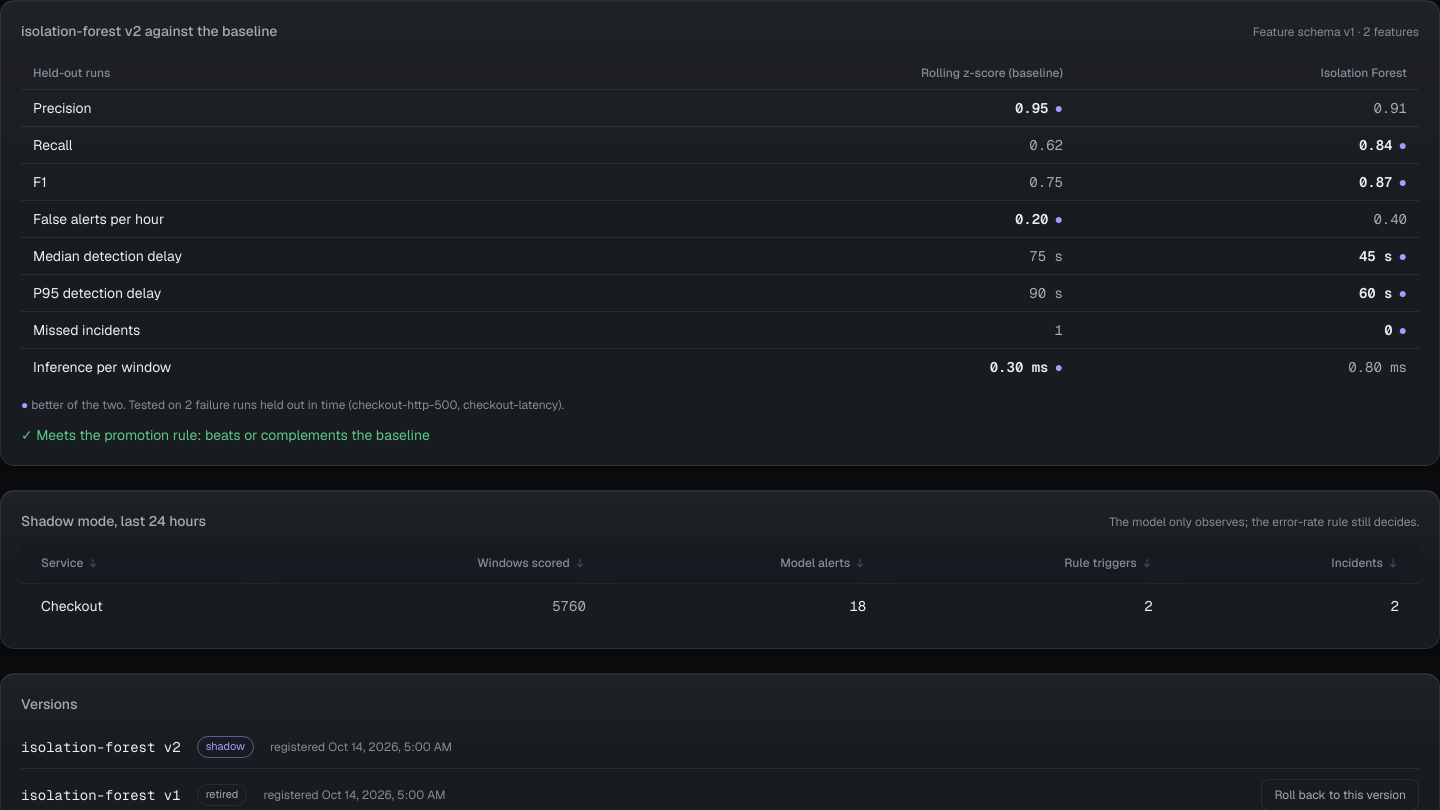
Test: ModelComparison › lets administrators roll back to an earlier version
The image size is (1440, 810).
Click the button "Roll back to this version" at (1340, 795), box [1261,779,1419,809]
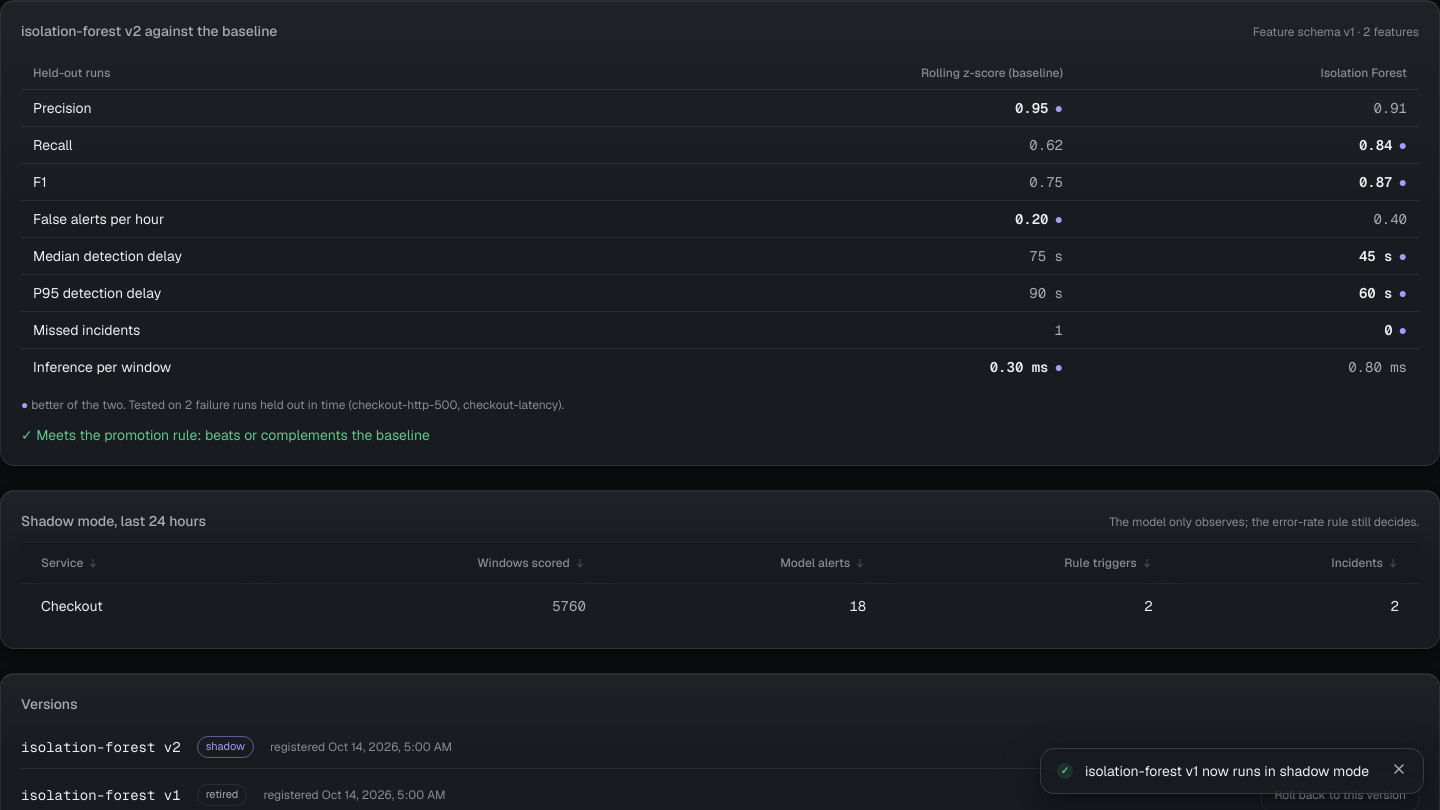
Expected: the text "isolation-forest v1 now runs in shadow mode" is shown, [1085,761,1379,781]
